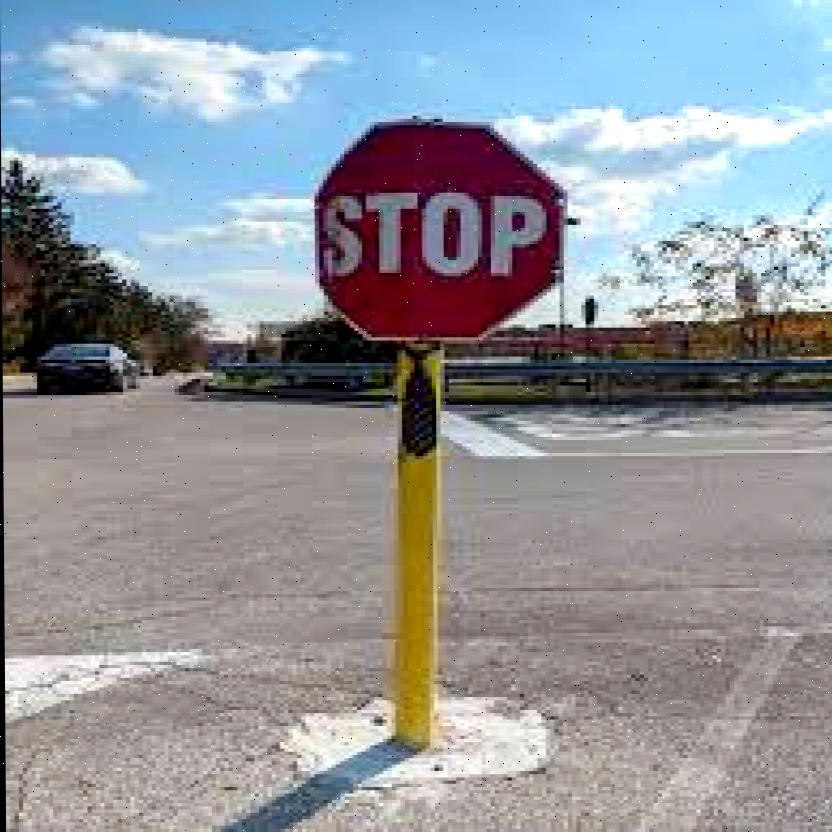Pole: (394, 357, 436, 746)
Sign: (301, 119, 577, 350)
